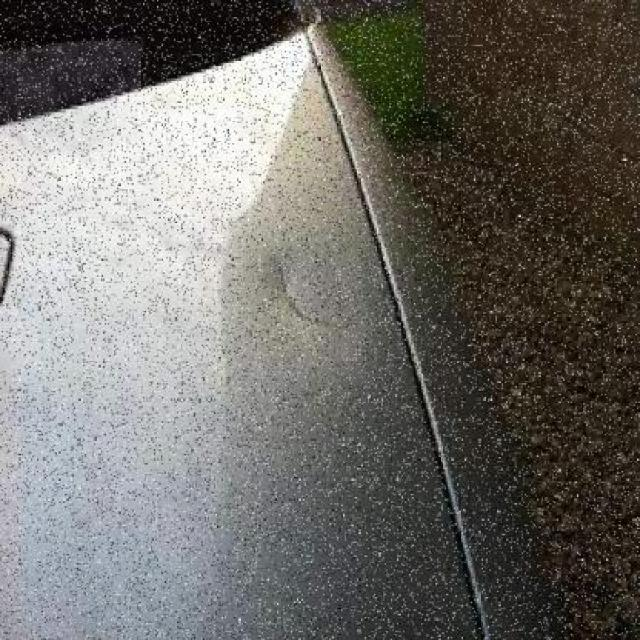bonnet-dent: (0, 63, 431, 631)
